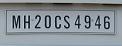0: (43, 13, 51, 28)
2: (33, 13, 41, 29)
4: (73, 13, 81, 28), (93, 14, 101, 29)
6: (102, 14, 111, 29)
9: (82, 14, 91, 28)
C: (53, 14, 61, 29)
H: (22, 13, 30, 29)
M: (10, 13, 20, 28)
S: (61, 14, 71, 28)
